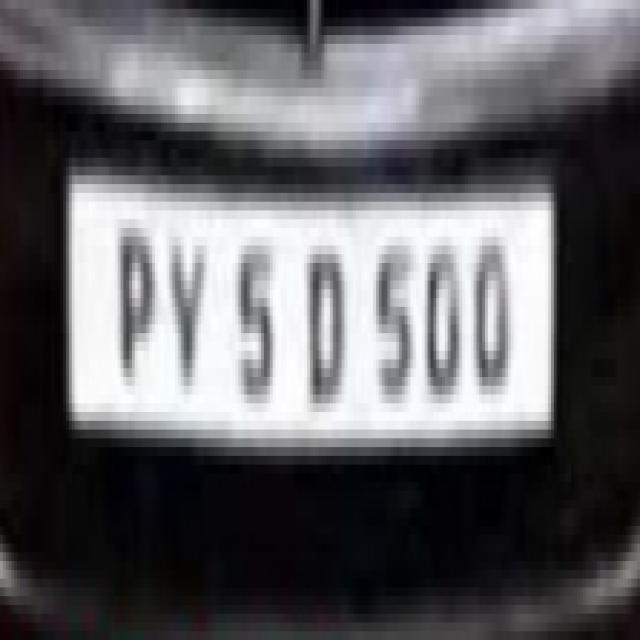0: (420, 234, 467, 404), (469, 238, 513, 392)
5: (233, 226, 281, 429), (367, 232, 418, 409)
D: (306, 232, 348, 415)
P: (116, 219, 157, 387)
Y: (168, 222, 209, 395)
